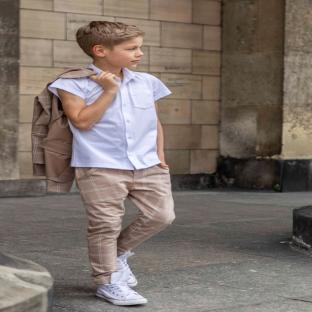Human: (48, 21, 175, 305)
